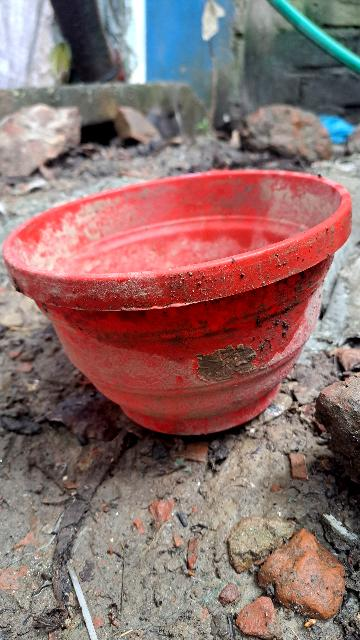hardplastic: (17, 177, 353, 434)
